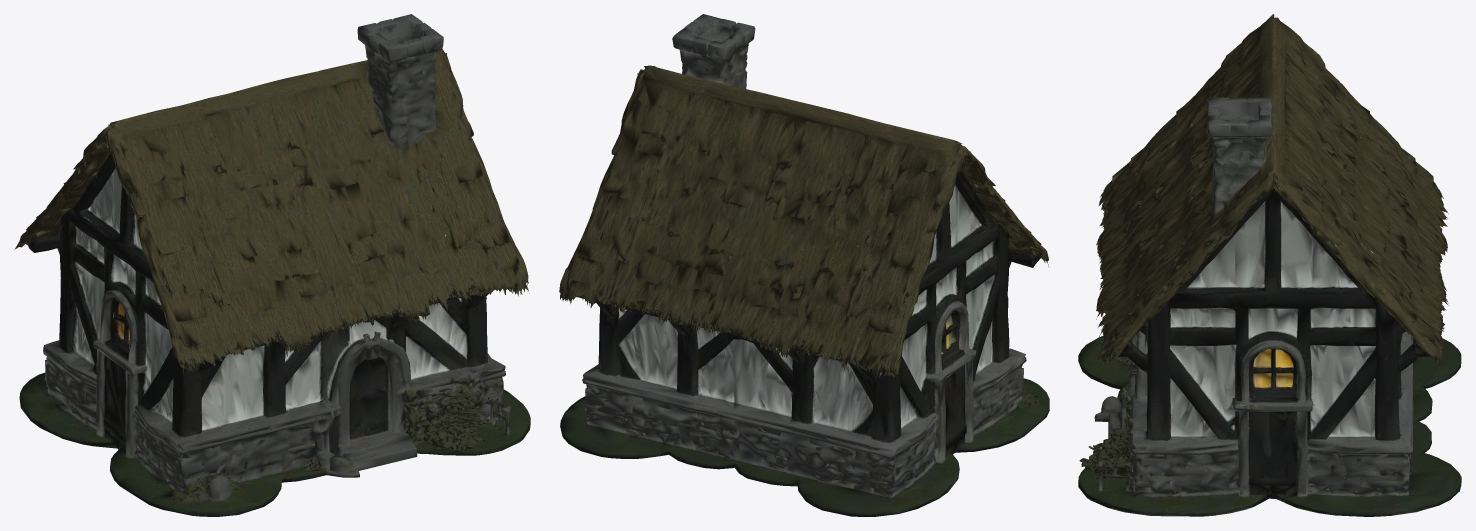
The model's file is village-house.glb.
3 views of the same model, side by side, from view 1: azimuth 30°, elevation 25°; view 2: azimuth 150°, elevation 25°; view 3: azimuth 270°, elevation 25° (orthographic). The views are drawn at different scales.
Bounding box in the file's own units: 1.9 × 1.73 × 1.64.
Materials: 1 (1 with a texture image).
